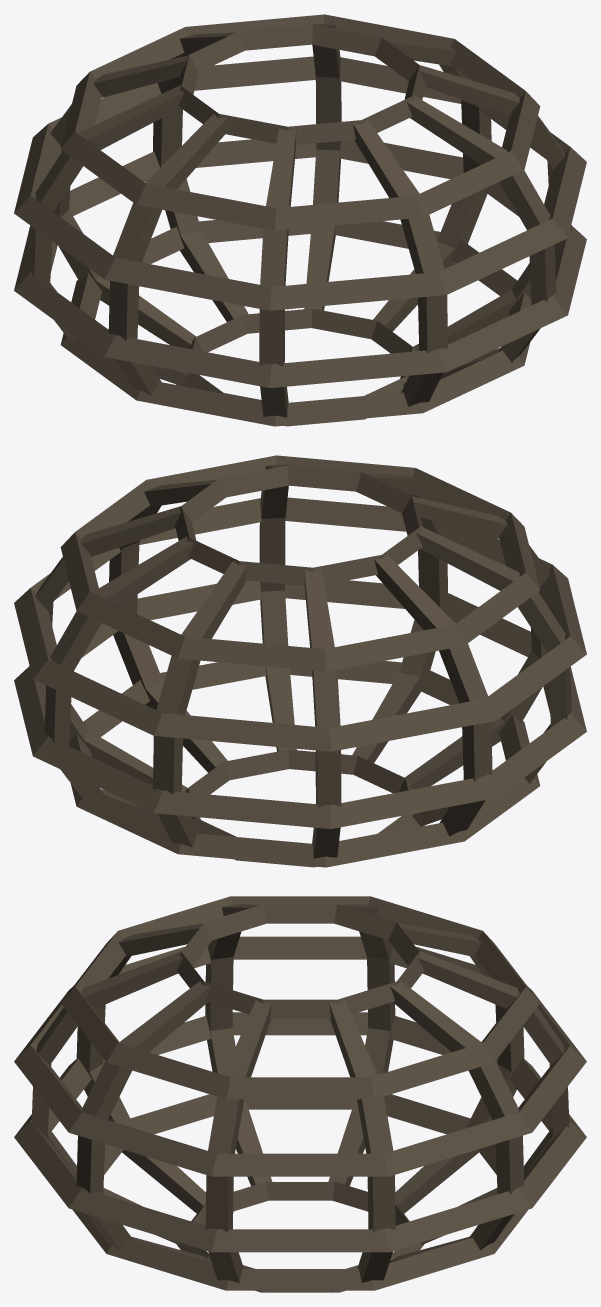
File: SM_Prop_LobsterPot_01.glb
The picture shows the model from 3 angles, top to bottom: view 1: azimuth 30°, elevation 25°; view 2: azimuth 150°, elevation 25°; view 3: azimuth 270°, elevation 25°; orthographic projection. The views are drawn at different scales.
Visible parts, largest first — view 1: SM_Prop_LobsterPot_01_part00; view 2: SM_Prop_LobsterPot_01_part00; view 3: SM_Prop_LobsterPot_01_part00.
Boxes of the visible parts, <box> form: SM_Prop_LobsterPot_01_part00: <box>14,14,586,426</box>; SM_Prop_LobsterPot_01_part00: <box>14,455,586,867</box>; SM_Prop_LobsterPot_01_part00: <box>14,896,586,1292</box>.
Size of the model in its own units: 0.6746 by 0.3967 by 0.7093.
1 material, 1 textured.
